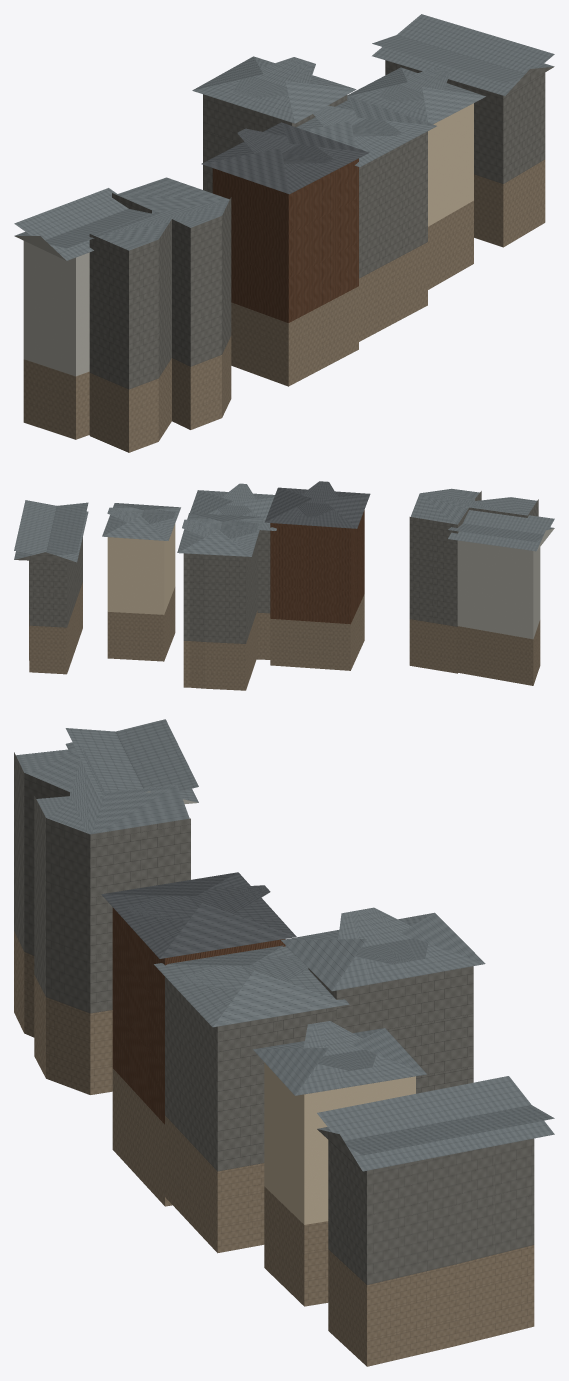
Rendered from bld_c22_44_385.gltf.
3 views of the same model, one above another, from view 1: azimuth 30°, elevation 25°; view 2: azimuth 150°, elevation 25°; view 3: azimuth 270°, elevation 25° (orthographic). The views are drawn at different scales.
Visible parts, largest first — view 1: bld_c22_44_385; view 2: bld_c22_44_385; view 3: bld_c22_44_385.
Boxes of the visible parts, left/top/right/bottom form: bld_c22_44_385: left=14, top=14, right=554, bottom=452; bld_c22_44_385: left=14, top=481, right=554, bottom=690; bld_c22_44_385: left=14, top=719, right=554, bottom=1366.
Size of the model in its own units: 52.01 by 17.08 by 30.62.
Materials: 9 (9 with a texture image).
